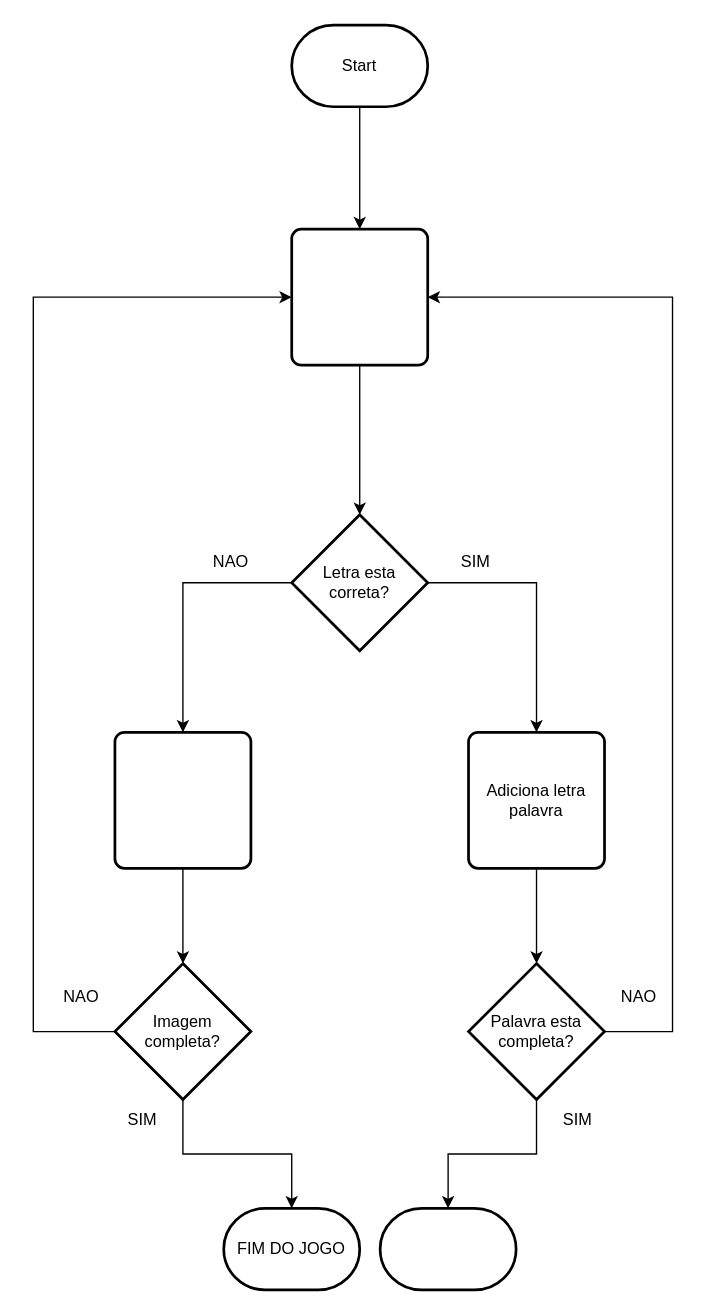
Image size: 707x1314. Some labels were removed from this diagram. The centre of each missing label's shape, as x and y in pixels:
"Adiciona peça na imagem" belongs at point 182,799.
"Solicita inserir letra" belongs at point 359,296.
"VENCEDOR" belongs at point 447,1248.
